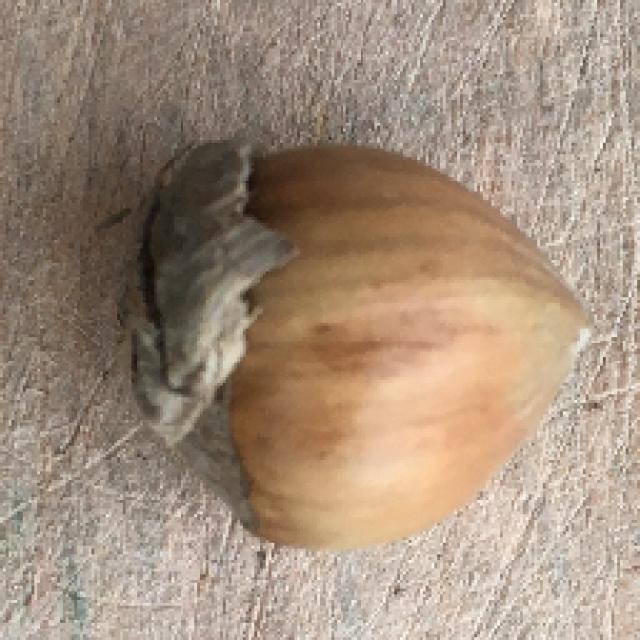damagedHazelnut: (123, 134, 597, 552)
